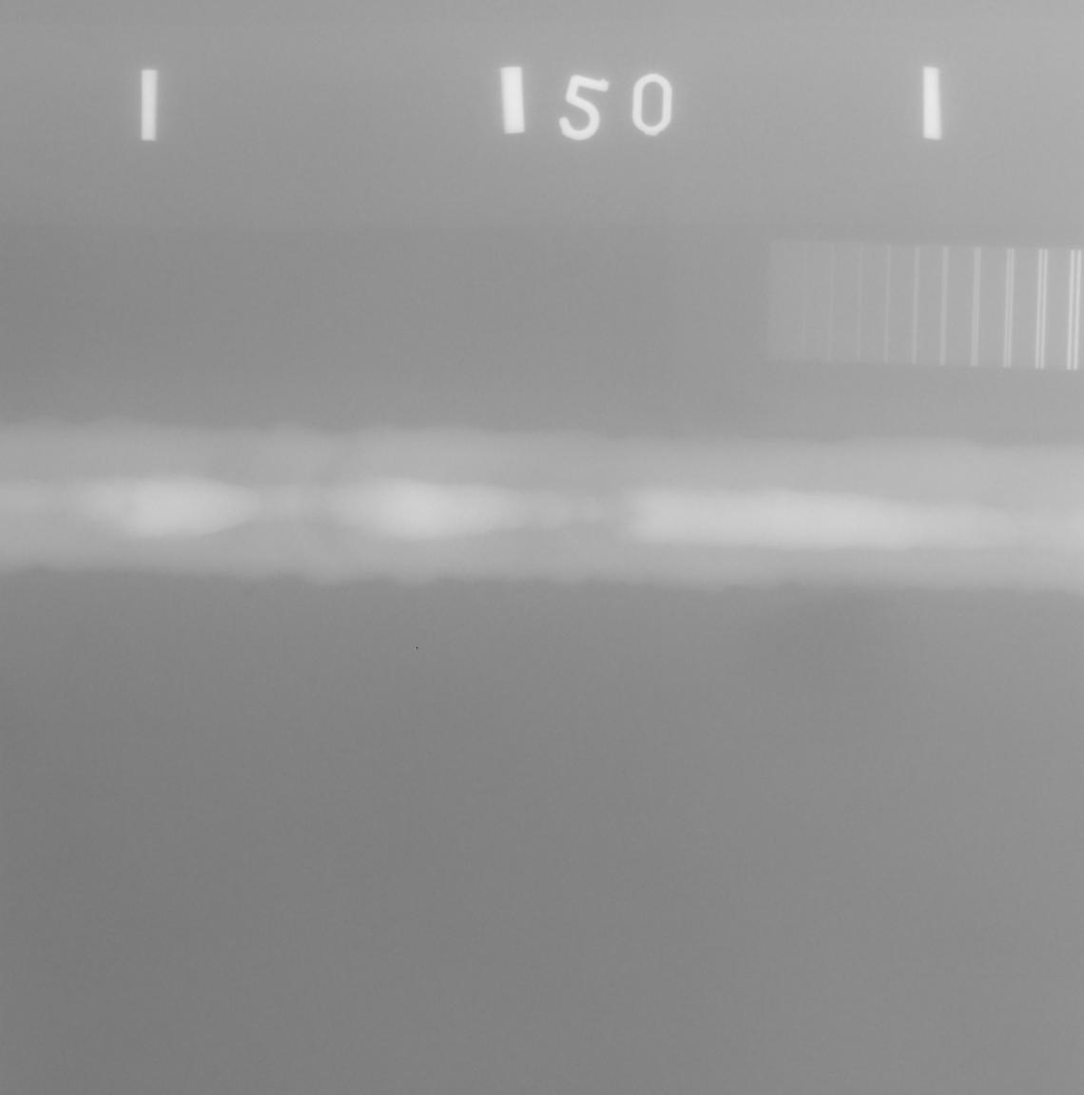Incomplete Root Penetration: (625, 514, 634, 516)
Pore/Porosity: (14, 536, 18, 541), (668, 545, 671, 549)
